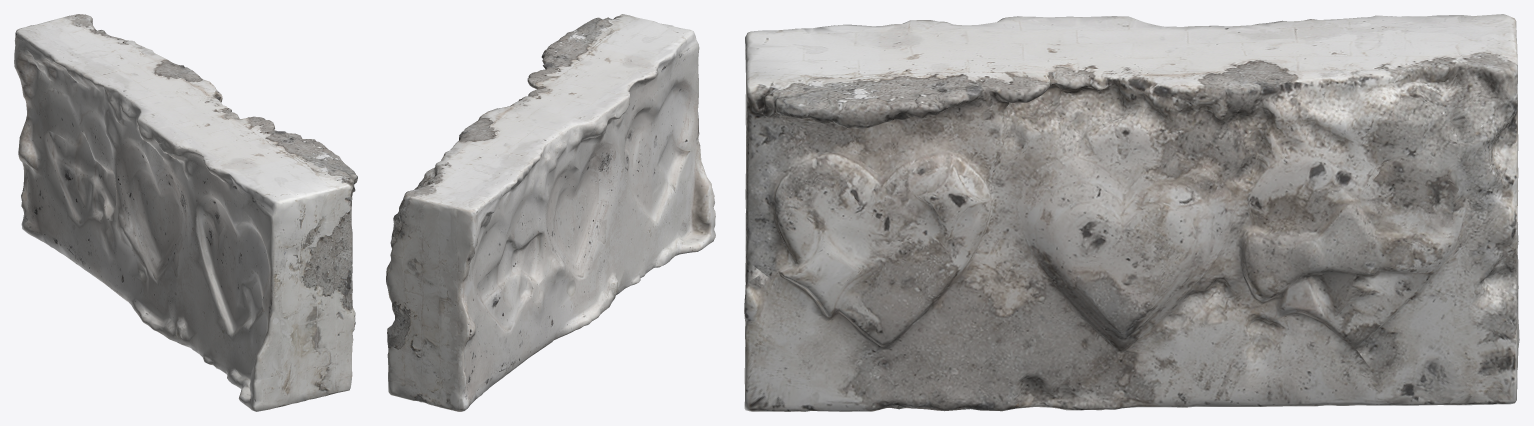
File: 07_love.glb
3 views of the same model, side by side, from view 1: azimuth 30°, elevation 25°; view 2: azimuth 150°, elevation 25°; view 3: azimuth 270°, elevation 25° (orthographic). The views are drawn at different scales.
Parts seen in each view (by area): view 1: Group32208; view 2: Group32208; view 3: Group32208.
Boxes of the visible parts, x1,y1,x2,y2 form: Group32208: (14,14,357,411); Group32208: (386,14,715,411); Group32208: (744,14,1519,411).
Bounding box in the file's own units: 1.26 × 2.11 × 4.51.
Materials: 1 (1 with a texture image).
